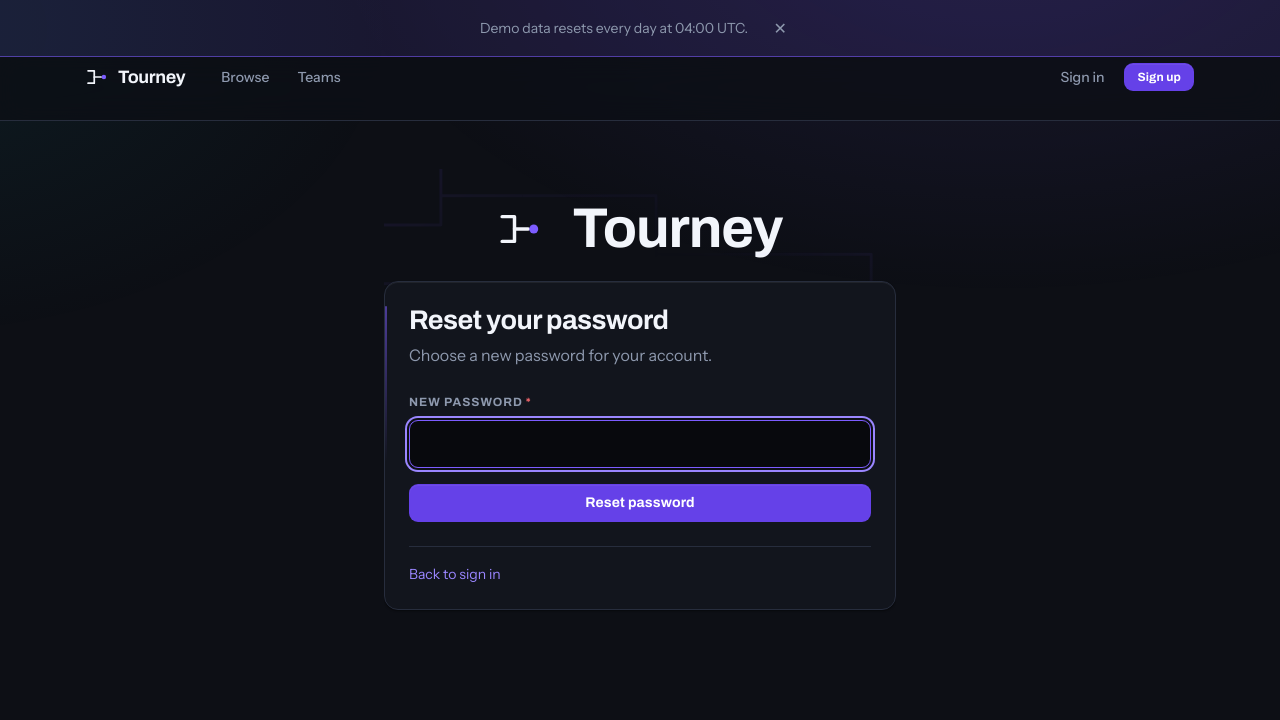
it: ResetPasswordPage › reports a weak password rejected by the server
The image size is (1280, 720).
Type "weak" into the password field labelled "New password*" at point(640, 444), box [409,420,871,468]
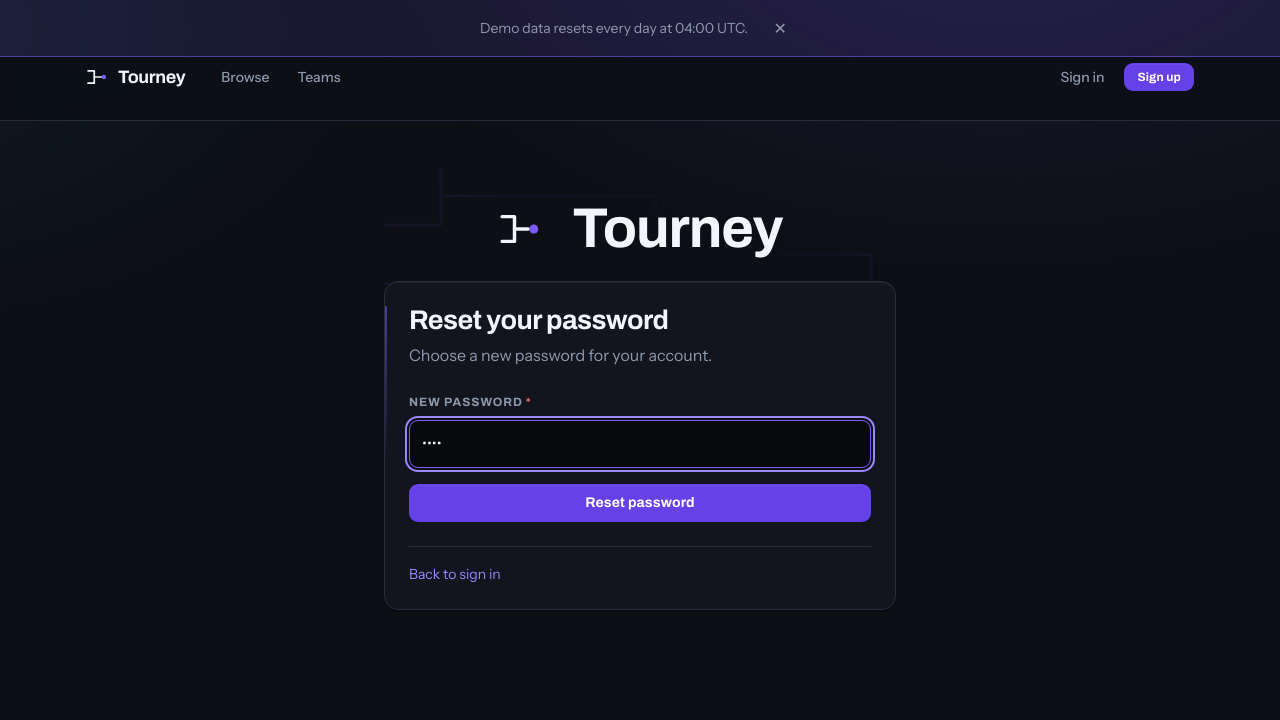
Click the button "Reset password" at point(640, 502), box [409,484,871,522]
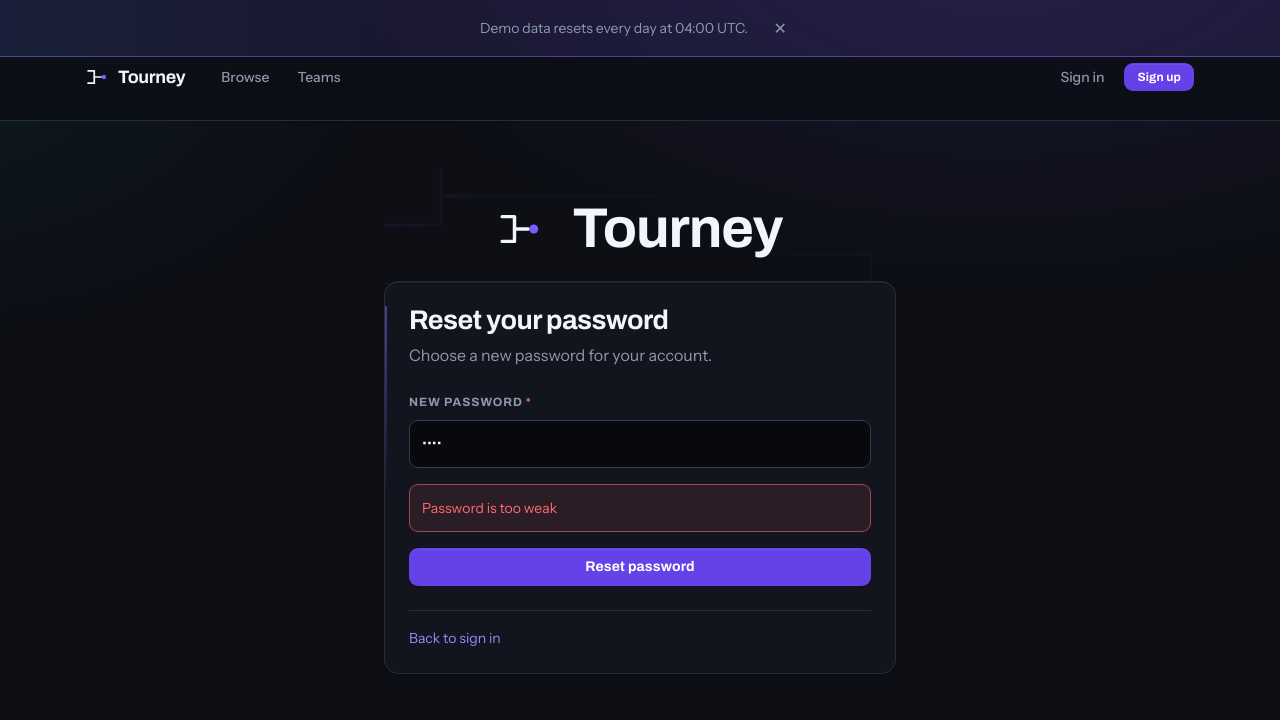
Check: the message reads "Password is too weak", box [422,498,557,516]
